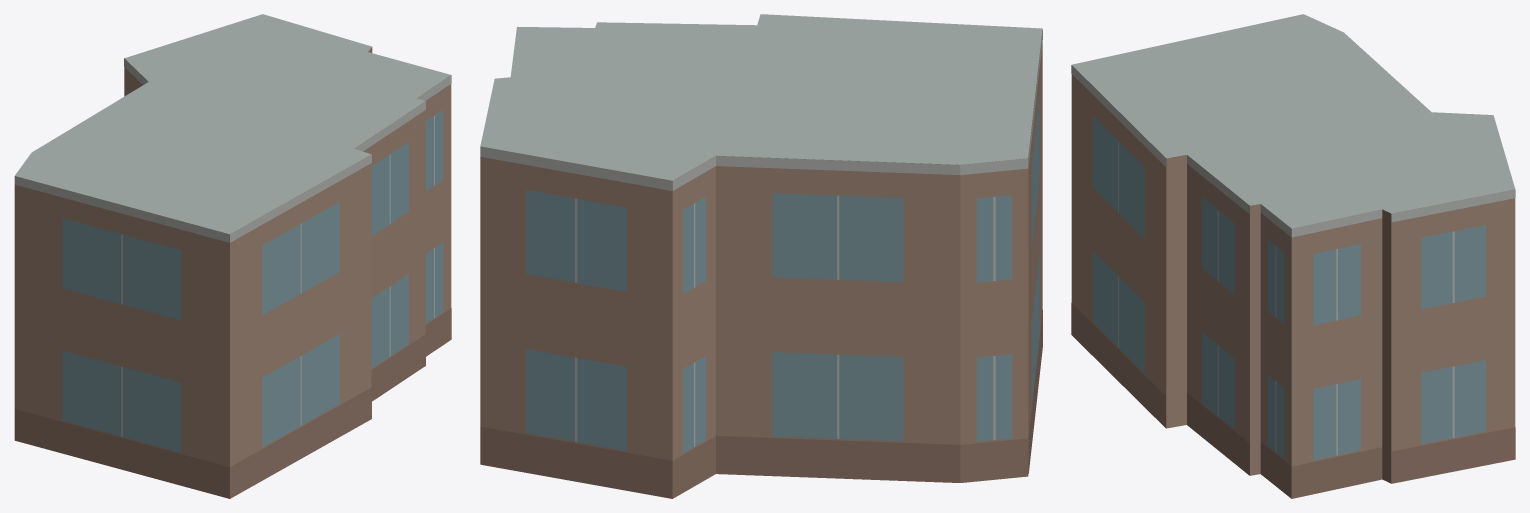
The model's file is survey-upis-32997898.glb.
3 views of the same model, side by side, from view 1: azimuth 30°, elevation 25°; view 2: azimuth 150°, elevation 25°; view 3: azimuth 270°, elevation 25° (orthographic). The views are drawn at different scales.
Parts seen in each view (by area): view 1: survey-upis-32997898.tmp; view 2: survey-upis-32997898.tmp; view 3: survey-upis-32997898.tmp.
Part boxes in pixels (x1,y1,x2,y2): survey-upis-32997898.tmp: [14, 14, 451, 498]; survey-upis-32997898.tmp: [480, 14, 1042, 498]; survey-upis-32997898.tmp: [1071, 14, 1515, 498].
Bounding box in the file's own units: 12.79 × 7.5 × 11.18.
